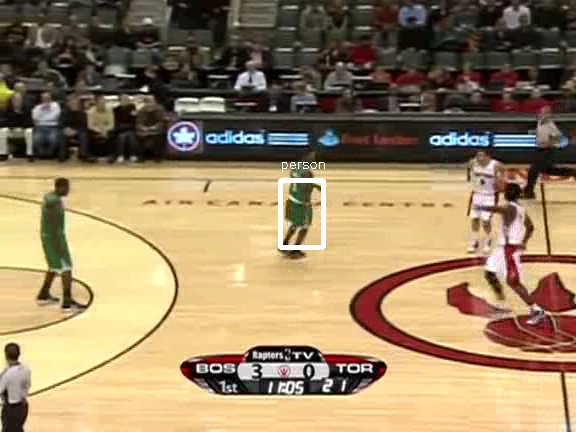person: (286, 157, 320, 238), (285, 157, 319, 238), (287, 157, 321, 238), (286, 156, 320, 237), (286, 158, 320, 239)
target_negative: (264, 100, 426, 343), (236, 365, 451, 397), (524, 133, 557, 294), (175, 239, 185, 342), (462, 68, 503, 90), (573, 368, 574, 380)
